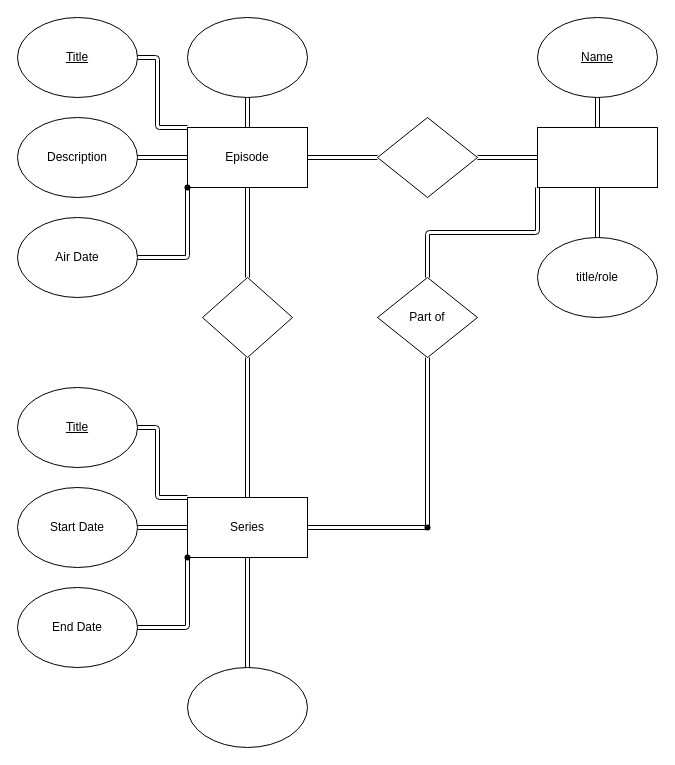
Image size: 675x765. Some labels were removed from this diagram. The centre of each missing label's shape, as x and y in pixels:
Character: point 597,157
Creator: point 247,707
Featuring: point 427,157
Produces: point 247,317
Season: point 247,57
